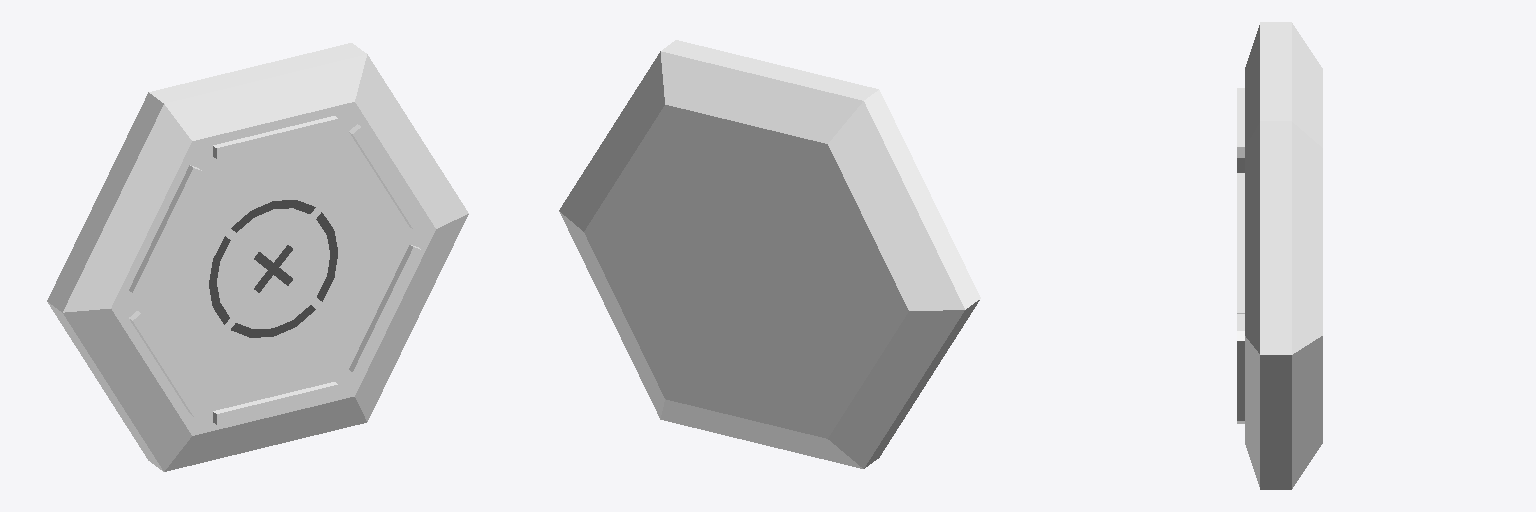
File: Platform.obj
3 renders of one model, left to right at view 1: azimuth 30°, elevation 25°; view 2: azimuth 150°, elevation 25°; view 3: azimuth 270°, elevation 25°, orthographic.
Parts seen in each view (by area): view 1: Platform, PlatformGuardNW, PlatformGuardSE, PlatformGuardN, PlatformGuardS, PlatformGuardSW, PlatformGuardNE; view 2: Platform; view 3: Platform, PlatformGuardNE, PlatformGuardSE, PlatformGuardN.
Boxes of the visible parts, <box> form: Platform: <box>47,43,468,471</box>; PlatformGuardNW: <box>129,165,201,295</box>; PlatformGuardSE: <box>349,245,421,375</box>; PlatformGuardN: <box>213,116,337,158</box>; PlatformGuardS: <box>213,382,337,424</box>; PlatformGuardSW: <box>129,311,201,416</box>; PlatformGuardNE: <box>349,124,421,229</box>; Platform: <box>559,40,980,468</box>; Platform: <box>1245,22,1322,489</box>; PlatformGuardNE: <box>1237,173,1244,313</box>; PlatformGuardSE: <box>1237,331,1244,420</box>; PlatformGuardN: <box>1237,88,1244,157</box>.
Bounding box in the file's own units: 15 × 12.99 × 2.75.